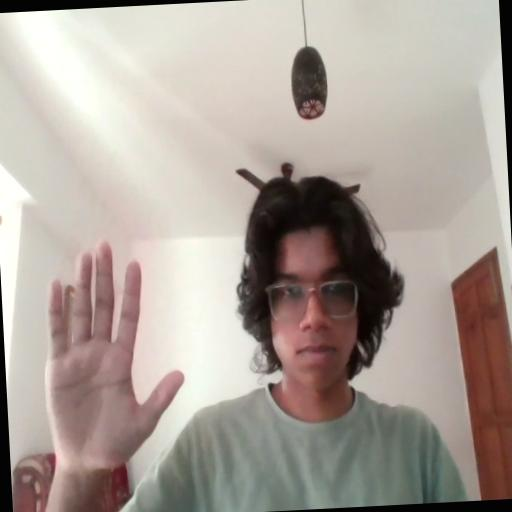Paper: (40, 236, 190, 482)
